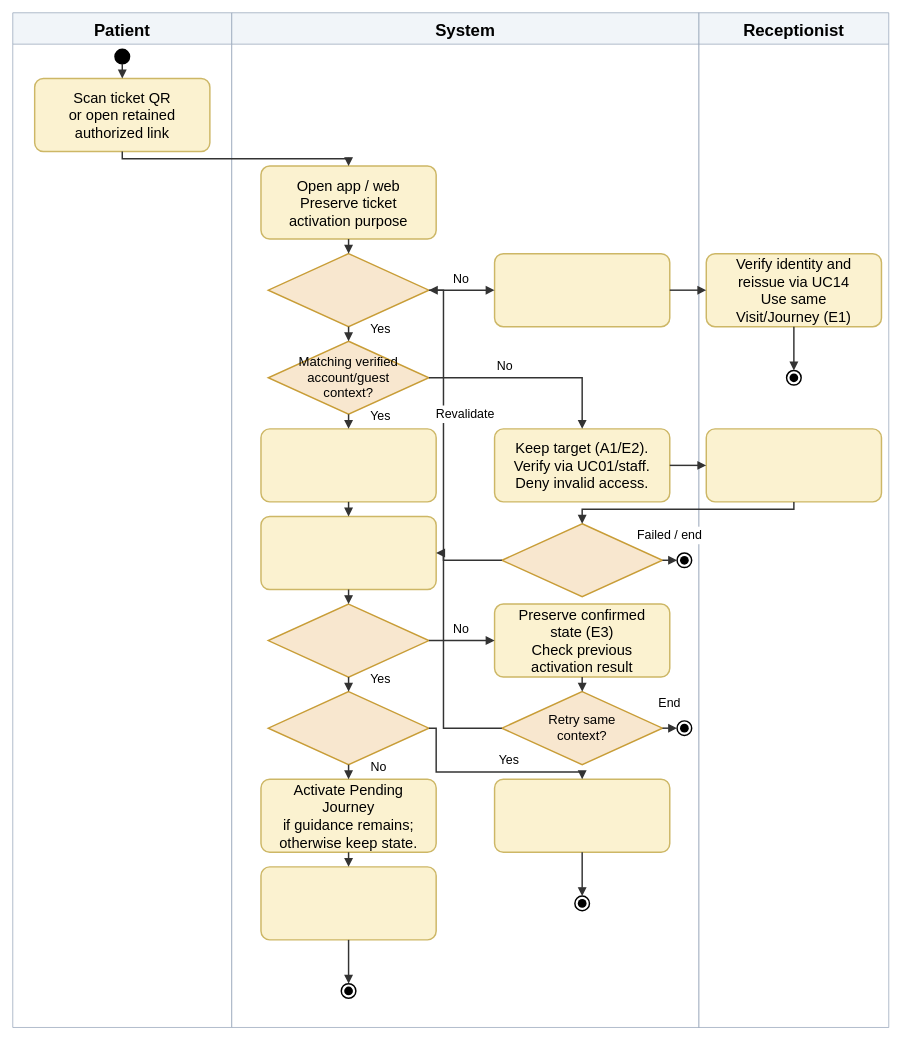
The diagram is 902 pixels wide and 1040 high, and some of its shapes have lost their labels. The shapes that lost their labels are listed below. From the top down, each one's centre as x and y in pixels, then its label:
At (x=348, y=290): "Ticket purpose / code status valid?".
At (x=581, y=290): "Reject invalid / expired code (E1) Offer verified ticket recovery".
At (x=348, y=465): "Establish/reuse permitted Visit access (A3).".
At (x=793, y=465): "Assist identity verification when required (A1/E2)".
At (x=348, y=552): "Load same Visit/Journey Include events before the scan".
At (x=582, y=560): "Verification successful?".
At (x=348, y=640): "Load / transition service available?".
At (x=348, y=728): "Journey already Completed?".
At (x=472, y=716): "Retry".
At (x=581, y=815): "UC10 record (A4) Keep published content. No reactivation.".
At (x=348, y=903): "Open existing UC04. Retain pharmacy (A2) and repeat-scan progress (A3).".
